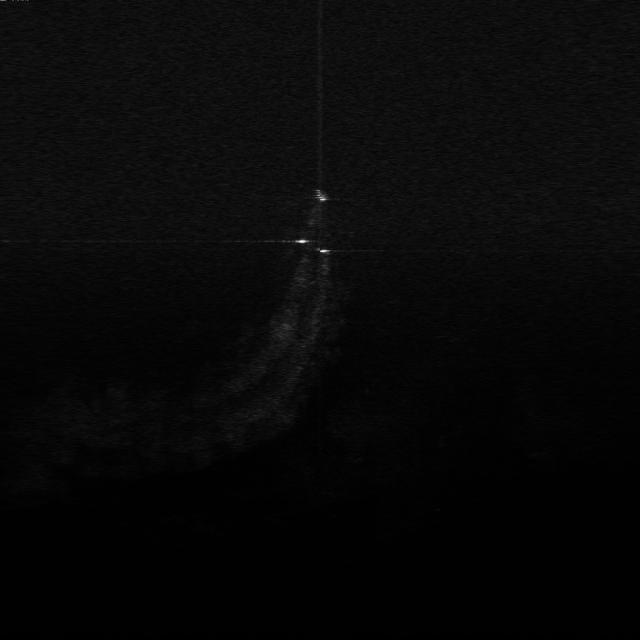rov: (312, 185, 331, 204)
